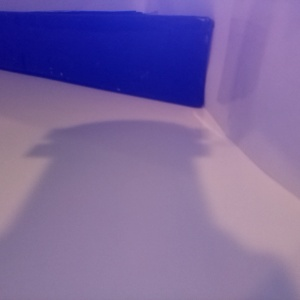zone: (12, 14, 300, 72)
